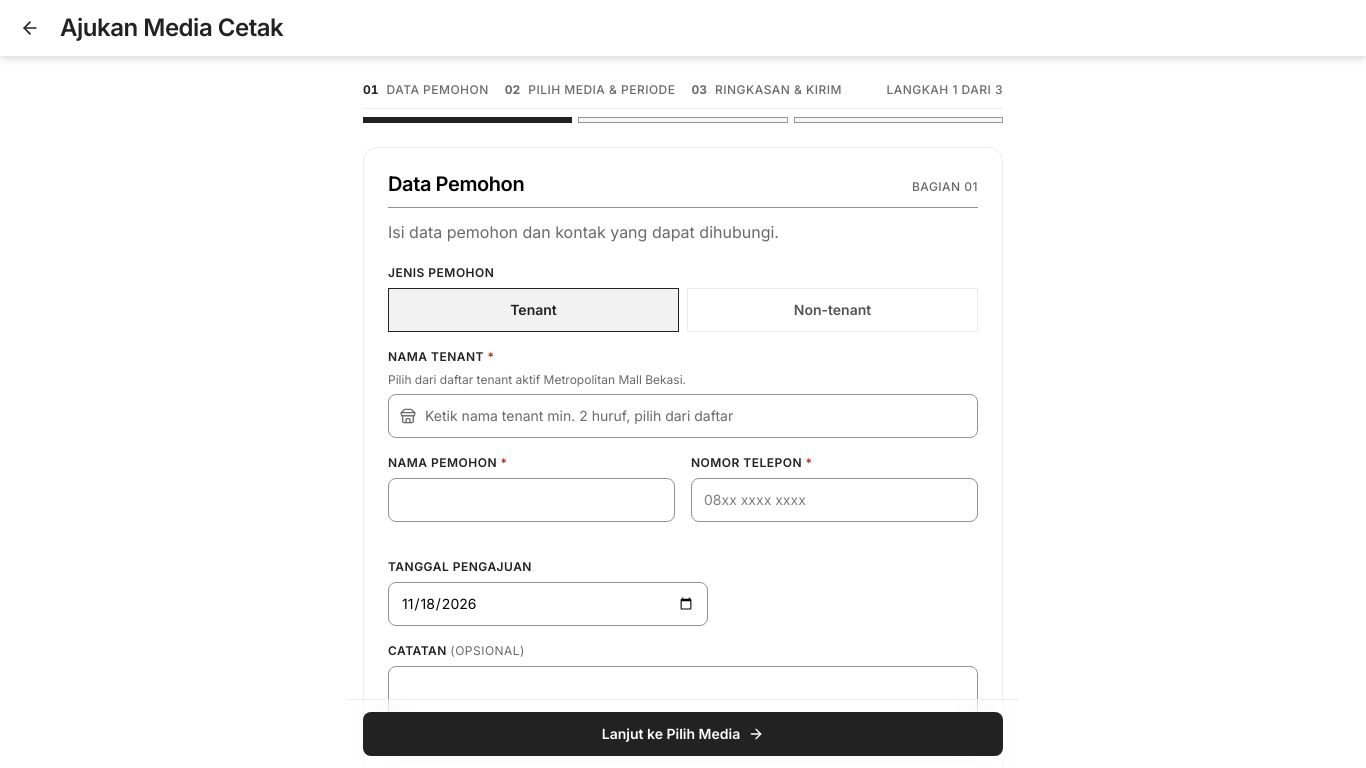
Test: PromoCetakWizard — langkah 2 (multi-media) › hanya menawarkan media berkanal cetak, bukan digital
Click the button "Non-tenant". click: coordinates (832, 310)
box: [687,288,978,332]
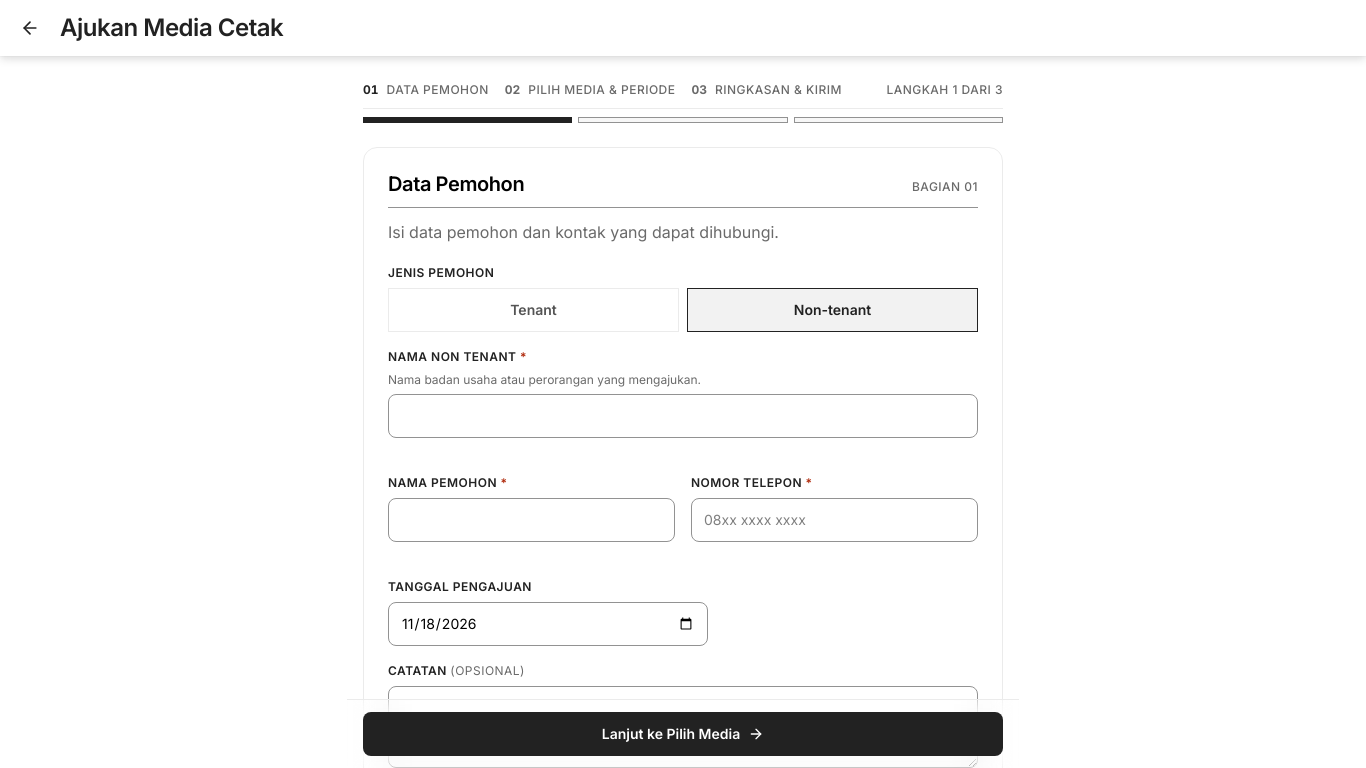
Type "PT Contoh" into the field labelled "Nama Non Tenant *". click: coordinates (683, 416)
box: [388,394,978,438]
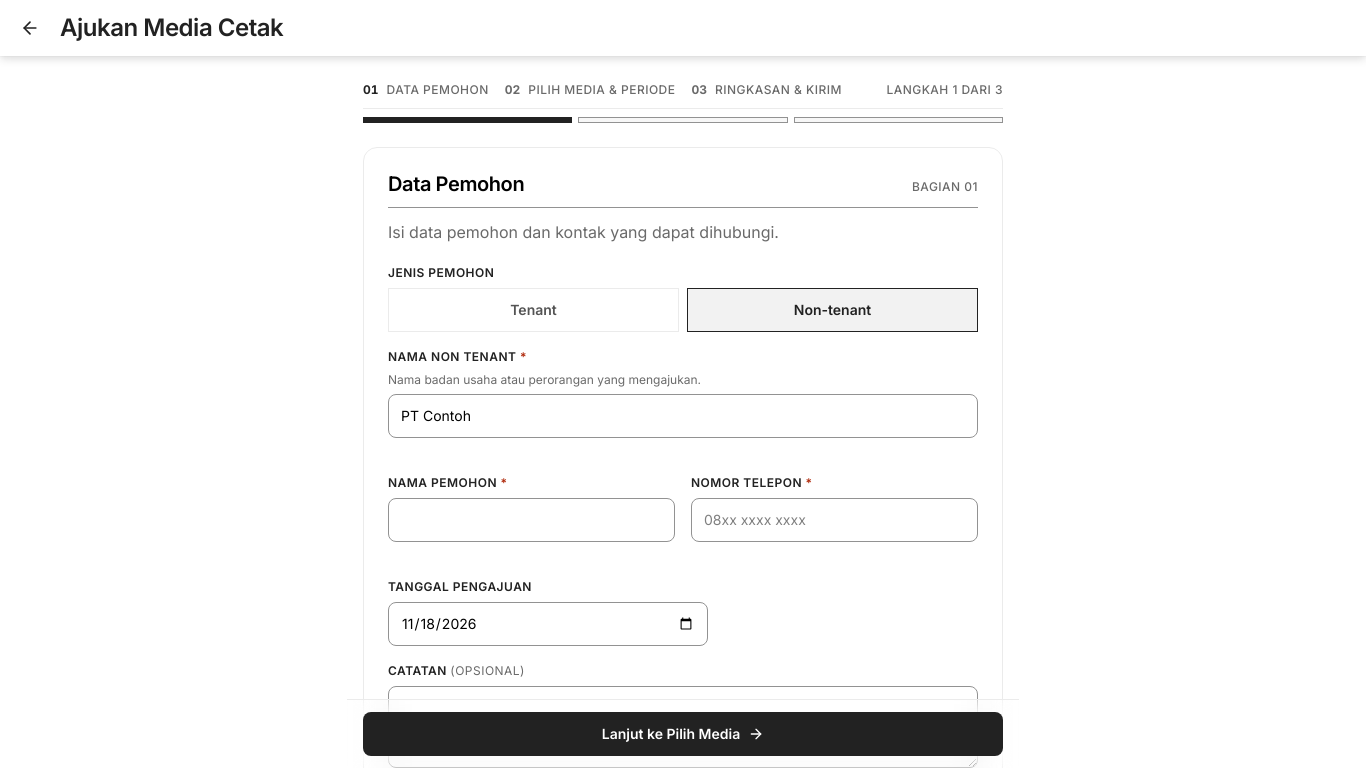
Type "Andi" into the field labelled "Nama Pemohon *". click: coordinates (532, 520)
box: [388,498,675,542]
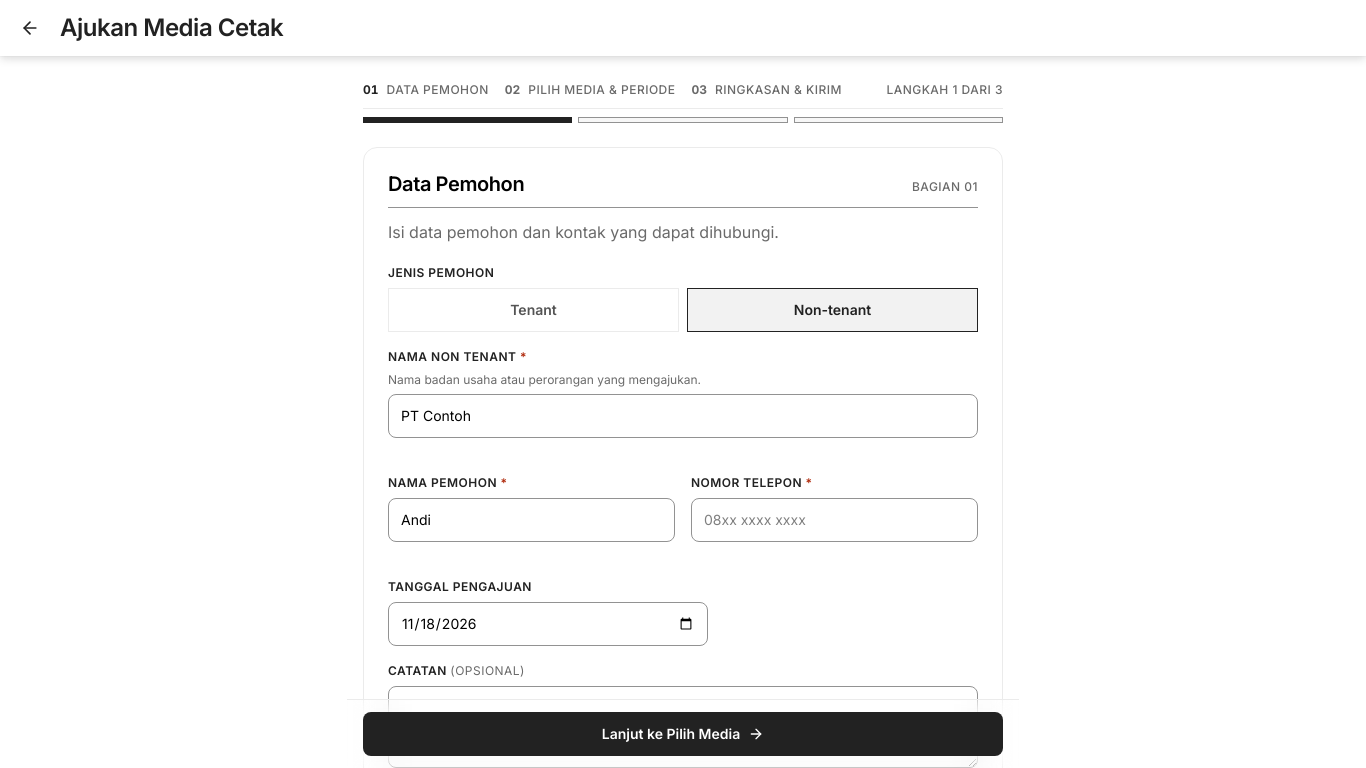
Type "081234567890" into the field labelled "Nomor Telepon *". click: coordinates (834, 520)
box: [691,498,978,542]
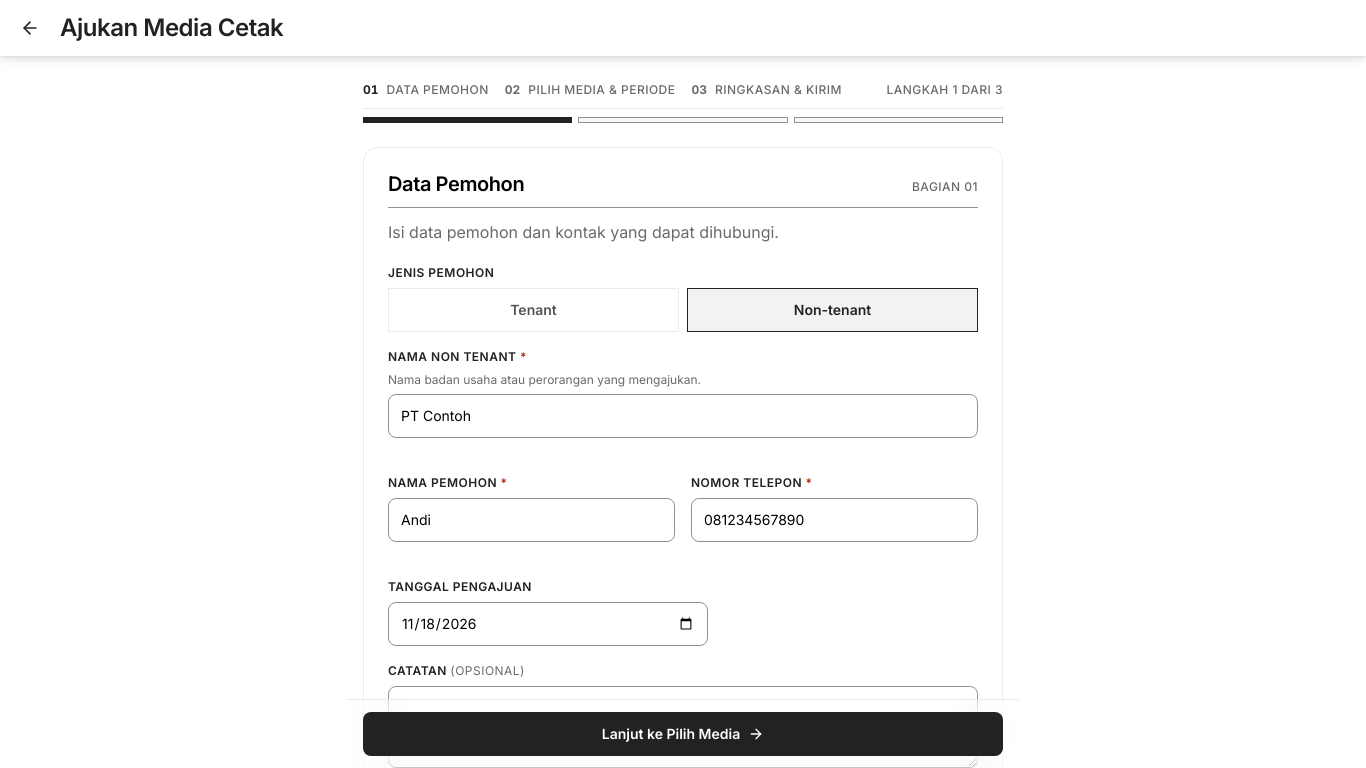
Click the button "Lanjut ke Pilih Media". click: coordinates (683, 734)
box: [363,712,1003,756]
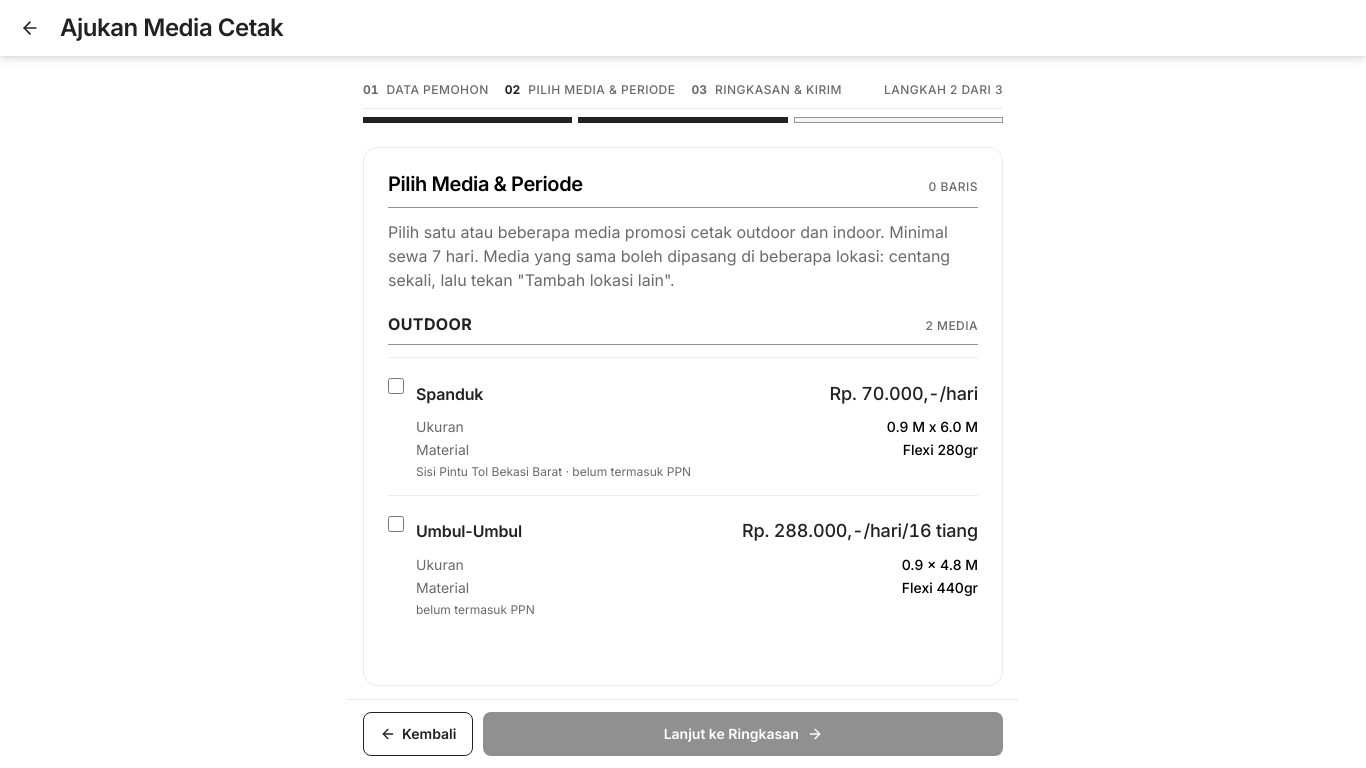
Now the checkbox labelled "Spanduk" is shown, box [388,378,404,394]
Now the checkbox labelled "Umbul-Umbul" is shown, box [388,516,404,532]
